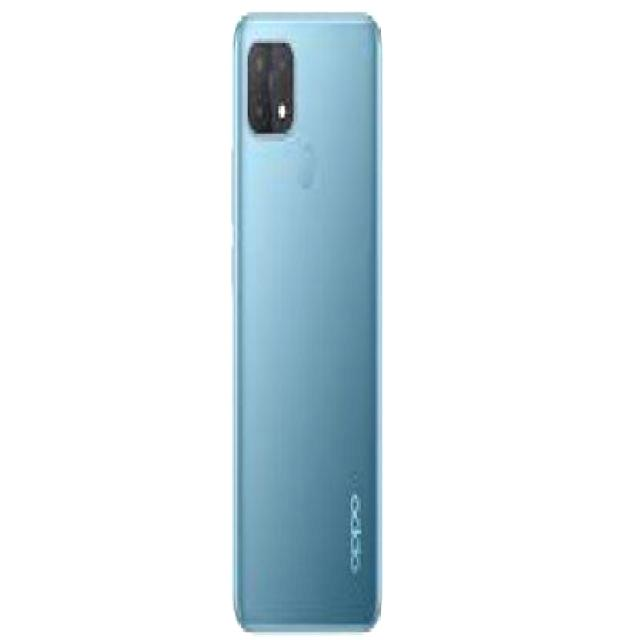lens: (246, 42, 295, 136)
phone: (232, 12, 382, 628)
